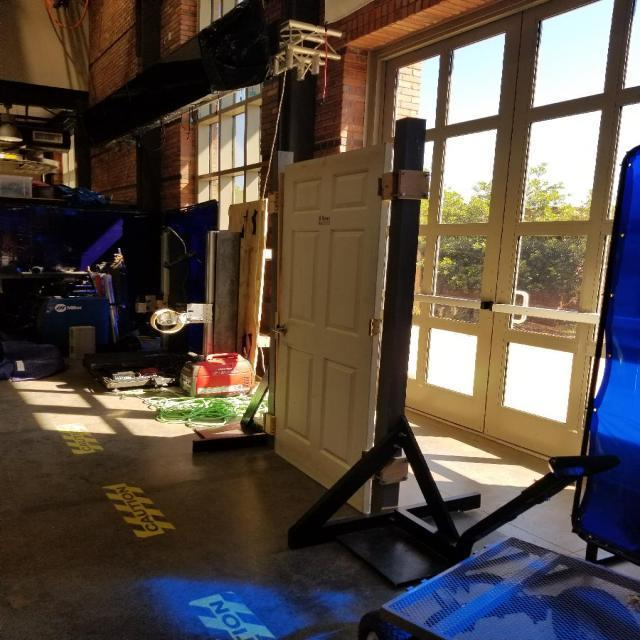door: (270, 138, 392, 522), (266, 322, 292, 340)
